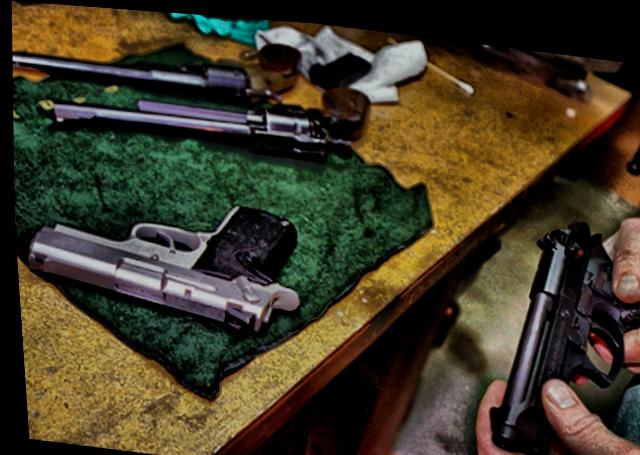pistol: (20, 159, 310, 351), (453, 183, 640, 455), (39, 42, 371, 159), (8, 5, 303, 101)
